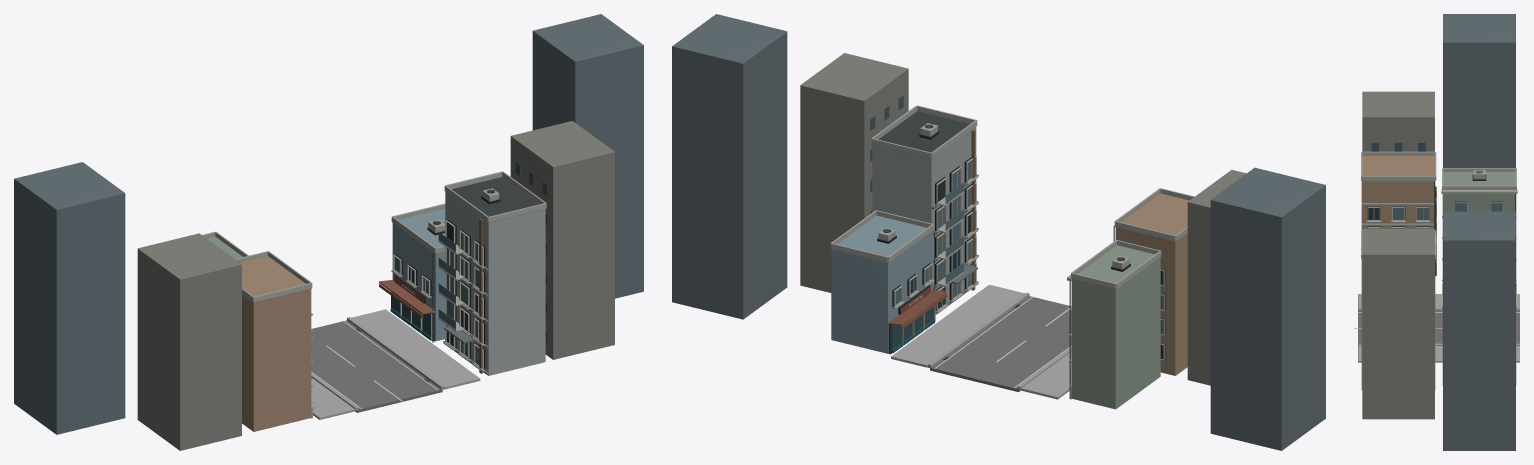
File: city_hd_13.glb
3 renders of one model, left to right at view 1: azimuth 30°, elevation 25°; view 2: azimuth 150°, elevation 25°; view 3: azimuth 270°, elevation 25°, orthographic. The views are drawn at different scales.
Visible parts, largest first — view 1: CITY_distant_2, CITY_distant_1, Modern apartment main volume, Masonry apartment volume, CITY_PBR_asphalt, CITY_PBR_pavement, CITY_trim, Mixed use shop volume, CITY_frame, CITY_glass, CITY_wall_gray, CITY_curb (+2 smaller); view 2: CITY_distant_2, CITY_distant_1, Narrow townhouse volume, Mixed use shop volume, CITY_PBR_asphalt, Modern apartment main volume, Masonry apartment volume, CITY_trim, CITY_PBR_pavement, CITY_frame, CITY_glass, CITY_wall_gray (+4 smaller); view 3: CITY_distant_2, CITY_distant_1, Masonry apartment volume, CITY_trim, Narrow townhouse volume, CITY_glass, CITY_frame, CITY_PBR_asphalt, CITY_PBR_pavement, Modern apartment main volume, CITY_recess, CITY_distant_window.
Part boxes in pixels (x1,y1,x2,y2): CITY_distant_2: (14, 14, 643, 434); CITY_distant_1: (137, 121, 614, 450); Modern apartment main volume: (445, 192, 545, 375); Masonry apartment volume: (240, 256, 311, 431); CITY_PBR_asphalt: (311, 320, 442, 412); CITY_PBR_pavement: (311, 309, 480, 419); CITY_trim: (202, 171, 546, 418); Mixed use shop volume: (392, 208, 445, 341); CITY_frame: (393, 220, 483, 369); CITY_glass: (394, 232, 479, 364); CITY_wall_gray: (253, 177, 539, 302); CITY_curb: (311, 317, 444, 410); CITY_distant_2: (672, 14, 1325, 450); CITY_distant_1: (800, 53, 1246, 385); Narrow townhouse volume: (1071, 245, 1160, 409); Mixed use shop volume: (831, 215, 932, 353); CITY_PBR_asphalt: (930, 296, 1071, 392); Modern apartment main volume: (872, 127, 976, 302); Masonry apartment volume: (1115, 193, 1189, 375); CITY_trim: (830, 105, 1194, 399); CITY_PBR_pavement: (891, 284, 1071, 399); CITY_frame: (893, 155, 1164, 360); CITY_glass: (895, 161, 1163, 334); CITY_wall_gray: (873, 111, 1175, 241); CITY_distant_2: (1443, 14, 1515, 450); CITY_distant_1: (1362, 91, 1434, 419); Masonry apartment volume: (1361, 156, 1435, 229); CITY_trim: (1361, 151, 1517, 310); Narrow townhouse volume: (1442, 172, 1516, 277); CITY_glass: (1368, 198, 1502, 274); CITY_frame: (1367, 186, 1503, 276); CITY_PBR_asphalt: (1358, 311, 1519, 343); CITY_PBR_pavement: (1358, 294, 1519, 362); Modern apartment main volume: (1361, 260, 1435, 389); CITY_recess: (1367, 186, 1502, 276); CITY_distant_window: (1371, 142, 1425, 151).
Bounding box in the file's own units: 57.3 × 23.26 × 16.4.
